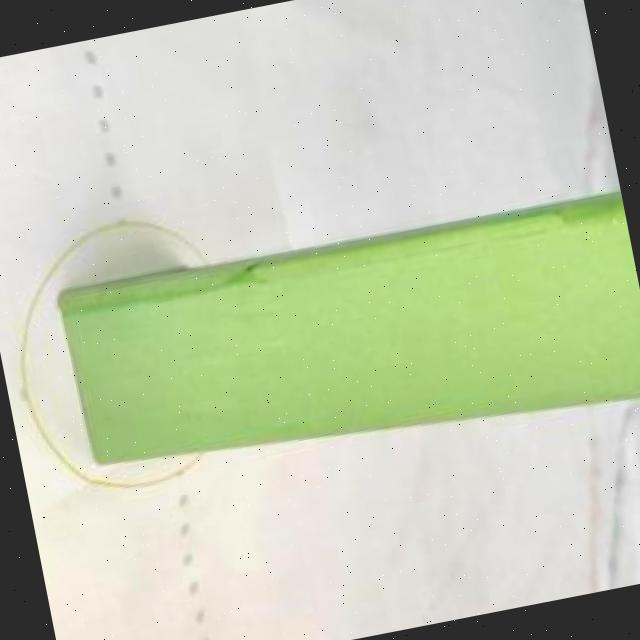greenbox: (65, 187, 640, 504)
